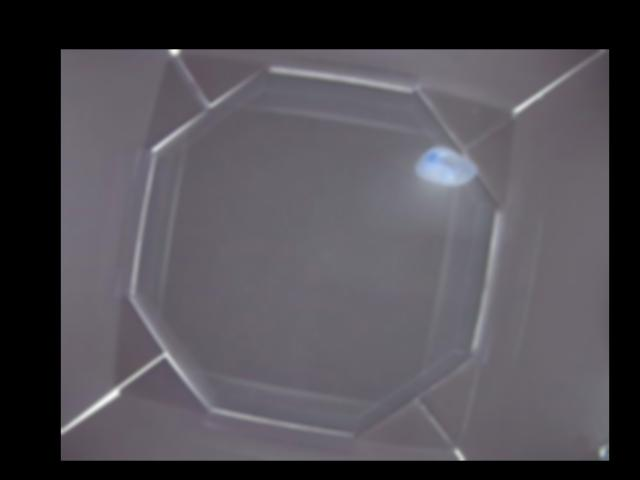Pebble: (412, 145, 479, 186)
